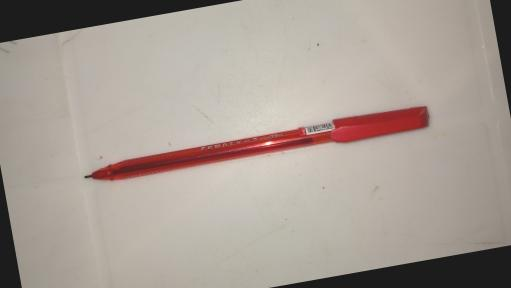pen: (80, 103, 432, 190)
